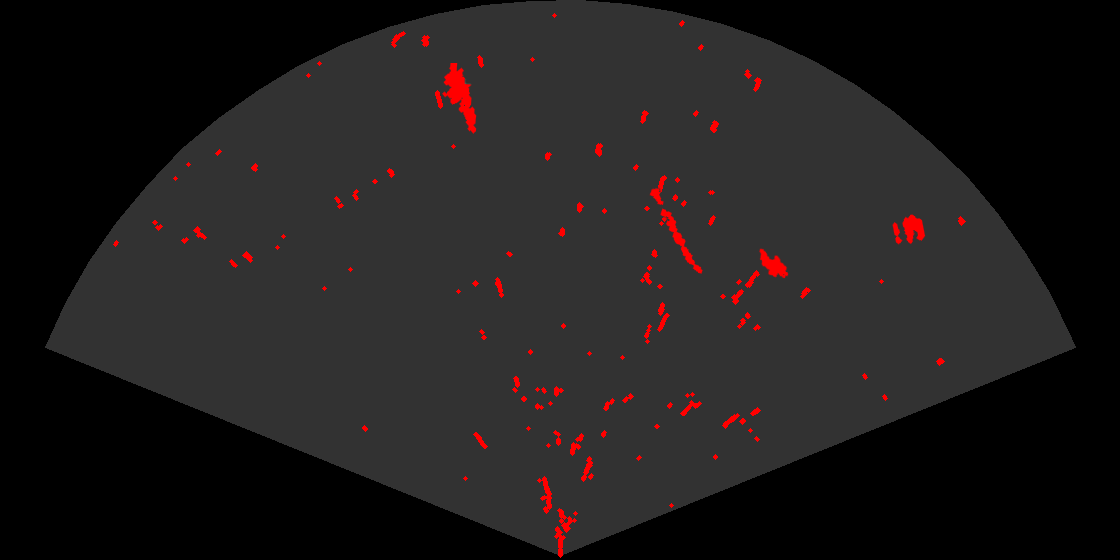AUV: (758, 247, 790, 280)
ball: (891, 213, 927, 246)
chain: (648, 186, 704, 275)
frogman: (441, 63, 478, 134)
